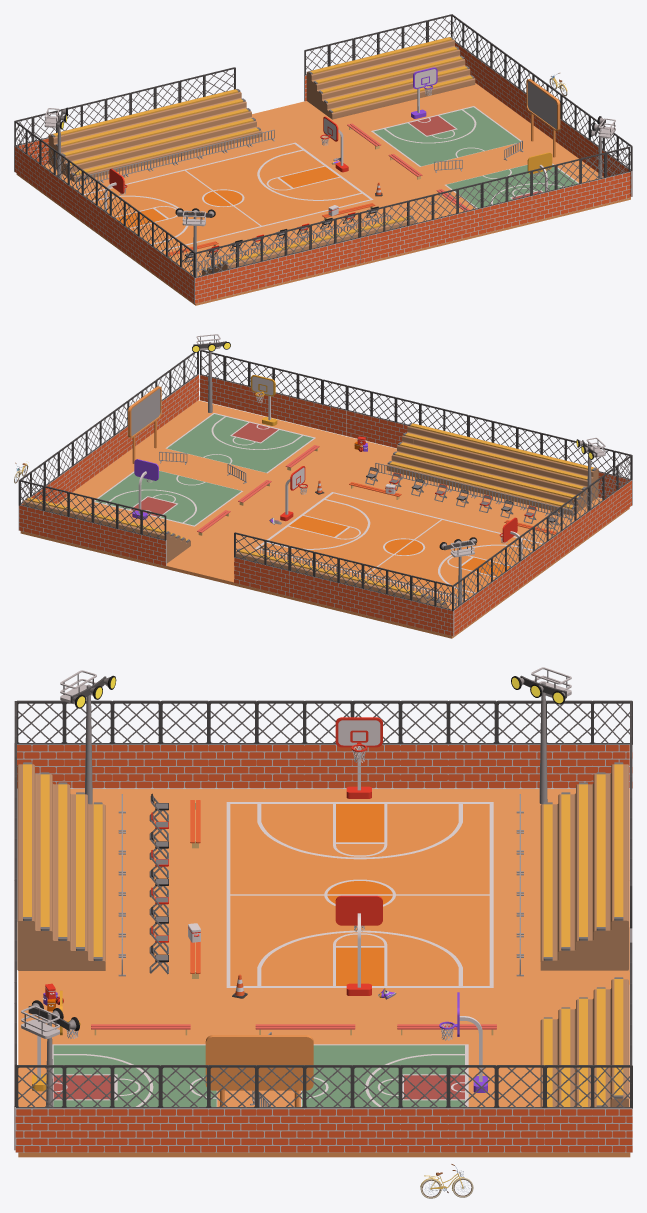
The model's file is BASKETBALL.gltf.
The picture shows the model from 3 angles, top to bottom: view 1: azimuth 30°, elevation 25°; view 2: azimuth 150°, elevation 25°; view 3: azimuth 270°, elevation 25°; orthographic projection. The views are drawn at different scales.
Parts seen in each view (by area): view 1: Link E, Fans Tribune B (×3), Basketball Playground, Basketball Playground (1), Basketball Street Playground, Basketball Street Playground (1), Scoreboard B, Fans Tribune C (×2), Fans Tribune A (2), Fans Tribune A (1), Wall Bricks A, Wall Bricks A (5) (+22 smaller); view 2: Link E, Fans Tribune B (×3), Basketball Playground, Basketball Playground (1), Basketball Street Playground (1), Basketball Street Playground, Scoreboard B, Fans Tribune C, Wall Bricks A (42), Spotlight Stadium Big (1), Wall Bricks A (40), Wall Bricks A (4) (+27 smaller); view 3: Link E, Fans Tribune B (×3), Basketball Playground (1), Basketball Playground, Grid B (×25), Basketball Street Playground, Basketball Street Playground (1), Scoreboard B, Fans Tribune C (×2), Basketball Hoop Stand Red (×2), Fans Tribune A, Wall Bricks A (49) (+30 smaller).
Part boxes in pixels (bbox=[...]): Link E: bbox=[16, 83, 630, 305]; Fans Tribune B (×3): bbox=[61, 39, 467, 266]; Basketball Playground: bbox=[184, 142, 373, 226]; Basketball Playground (1): bbox=[84, 170, 261, 251]; Basketball Street Playground: bbox=[371, 106, 521, 166]; Basketball Street Playground (1): bbox=[445, 163, 578, 208]; Scoreboard B: bbox=[526, 79, 560, 157]; Fans Tribune C (×2): bbox=[226, 36, 475, 139]; Fans Tribune A (2): bbox=[306, 69, 340, 119]; Fans Tribune A (1): bbox=[48, 132, 85, 182]; Wall Bricks A: bbox=[605, 172, 630, 203]; Wall Bricks A (5): bbox=[482, 202, 507, 233]; Link E: bbox=[20, 400, 629, 638]; Fans Tribune B (×3): bbox=[32, 425, 585, 599]; Basketball Playground: bbox=[255, 492, 442, 575]; Basketball Playground (1): bbox=[366, 519, 542, 599]; Basketball Street Playground (1): bbox=[165, 413, 315, 473]; Basketball Street Playground: bbox=[94, 470, 242, 526]; Scoreboard B: bbox=[128, 386, 161, 463]; Fans Tribune C: bbox=[562, 465, 598, 515]; Wall Bricks A (42): bbox=[234, 557, 265, 590]; Spotlight Stadium Big (1): bbox=[192, 334, 230, 412]; Wall Bricks A (40): bbox=[141, 535, 166, 566]; Wall Bricks A (4): bbox=[297, 398, 322, 429]; Link E: bbox=[18, 789, 630, 1157]; Fans Tribune B (×3): bbox=[17, 771, 628, 1106]; Basketball Playground (1): bbox=[226, 802, 493, 894]; Basketball Playground: bbox=[226, 895, 493, 987]; Grid B (×25): bbox=[16, 700, 632, 1108]; Basketball Street Playground: bbox=[301, 1044, 468, 1106]; Basketball Street Playground (1): bbox=[52, 1044, 217, 1106]; Scoreboard B: bbox=[205, 1035, 313, 1106]; Fans Tribune C (×2): bbox=[17, 762, 628, 970]; Basketball Hoop Stand Red (×2): bbox=[335, 717, 382, 995]; Fans Tribune A: bbox=[17, 909, 105, 970]; Wall Bricks A (49): bbox=[15, 1107, 64, 1152].
Size of the model in its own units: 91.88 by 13.45 by 58.36.
14 materials, 2 textured.
